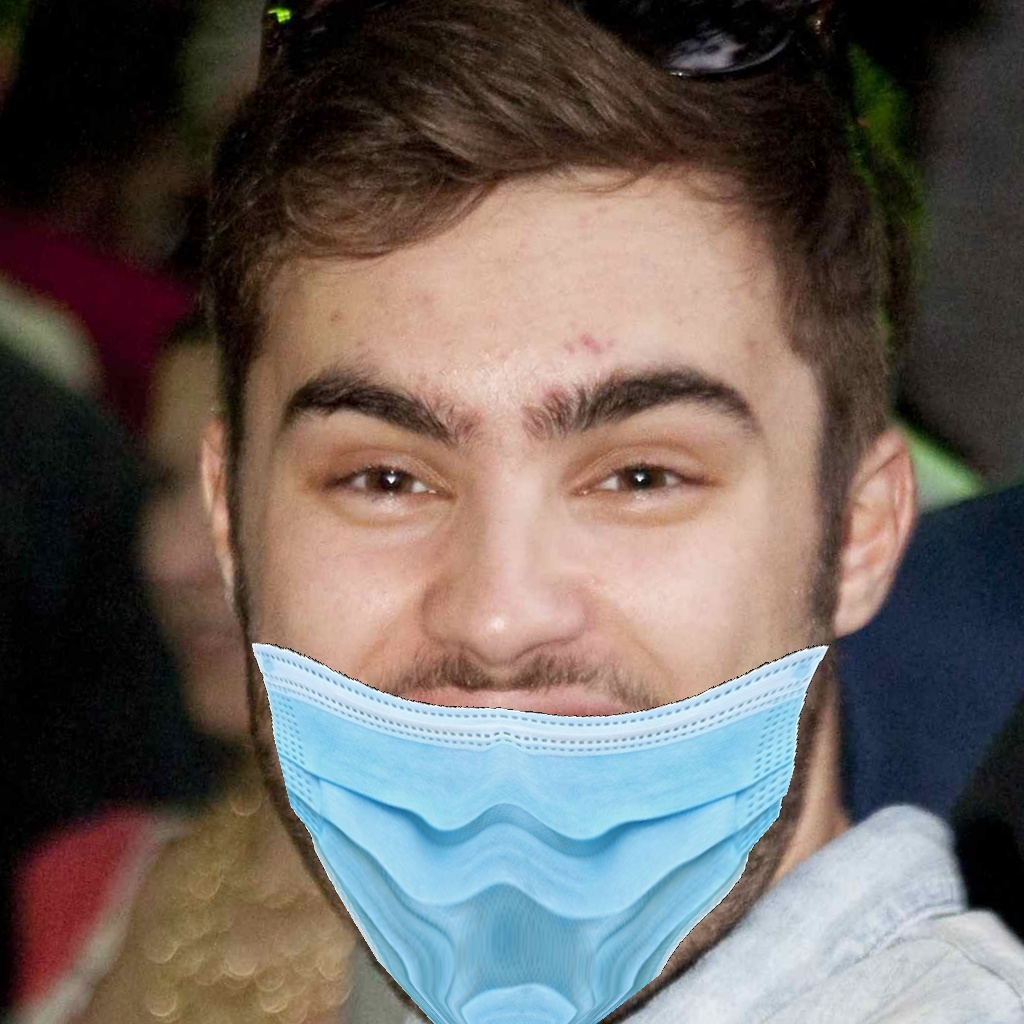mascarilla_mal_puesta: (222, 395, 909, 980)
